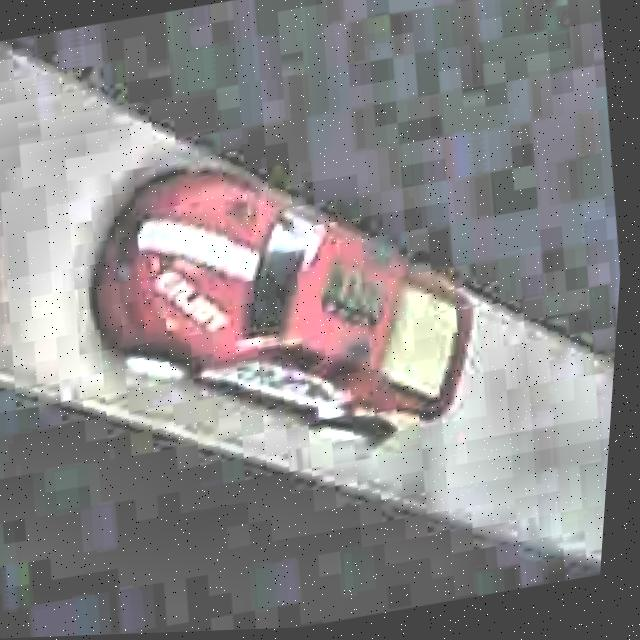car: (59, 112, 506, 495)
